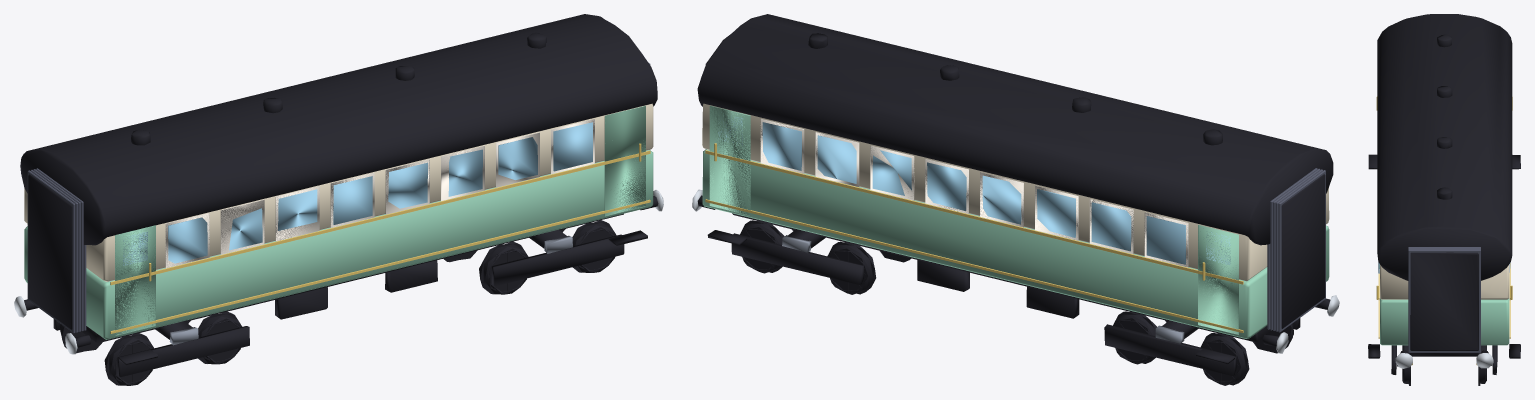
Rendered from carriage.glb.
3 views of the same model, side by side, from view 1: azimuth 30°, elevation 25°; view 2: azimuth 150°, elevation 25°; view 3: azimuth 270°, elevation 25° (orthographic). The views are drawn at different scales.
Parts seen in each view (by area): view 1: carriage.003, cw3.4-0.8-1.003 (×4); view 2: carriage.003, cw3.4-0.003 (×4); view 3: carriage.003, cw3.4-0.8-1.003, cw3.4-0.003.
Boxes of the visible parts, box(x1,y1,x2,y2) form: carriage.003: box(14, 14, 663, 377); cw3.4-0.8-1.003 (×4): box(104, 220, 616, 385); carriage.003: box(692, 14, 1339, 375); cw3.4-0.003 (×4): box(740, 220, 1249, 385); carriage.003: box(1368, 14, 1520, 374); cw3.4-0.8-1.003: box(1397, 345, 1412, 385); cw3.4-0.003: box(1476, 345, 1492, 385).
Size of the model in its own units: 10.7 by 3.94 by 3.04.
Materials: 1 (1 with a texture image).
